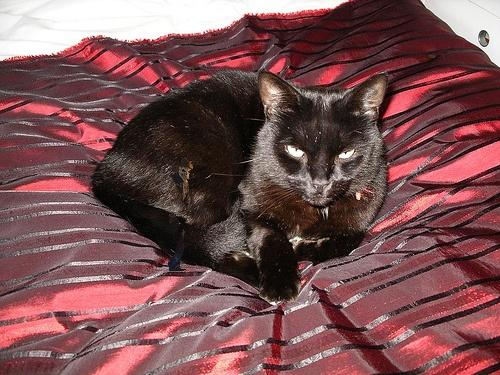tampered: (169, 157, 193, 271)
